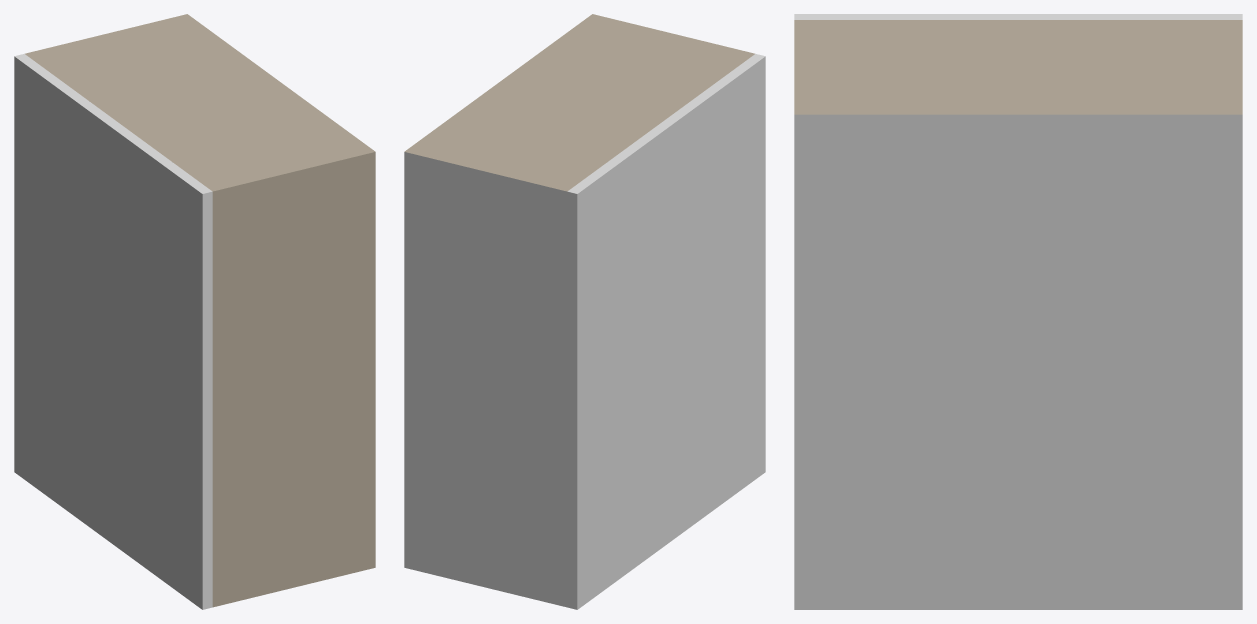
The model's file is Cabinet2.fbx.
The picture shows the model from 3 angles, left to right: view 1: azimuth 30°, elevation 25°; view 2: azimuth 150°, elevation 25°; view 3: azimuth 270°, elevation 25°; orthographic projection. The views are drawn at different scales.
Parts seen in each view (by area): view 1: Cabinet2, Cabinet2_NMO; view 2: Cabinet2_NMO, Cabinet2; view 3: Cabinet2_NMO, Cabinet2.
Part boxes in pixels (bbox=[...]): Cabinet2: bbox=[25, 14, 375, 607]; Cabinet2_NMO: bbox=[14, 54, 212, 609]; Cabinet2_NMO: bbox=[404, 54, 765, 609]; Cabinet2: bbox=[404, 14, 754, 191]; Cabinet2_NMO: bbox=[794, 14, 1242, 609]; Cabinet2: bbox=[794, 20, 1242, 114].
Bounding box in the file's own units: 170 × 390 × 320.
